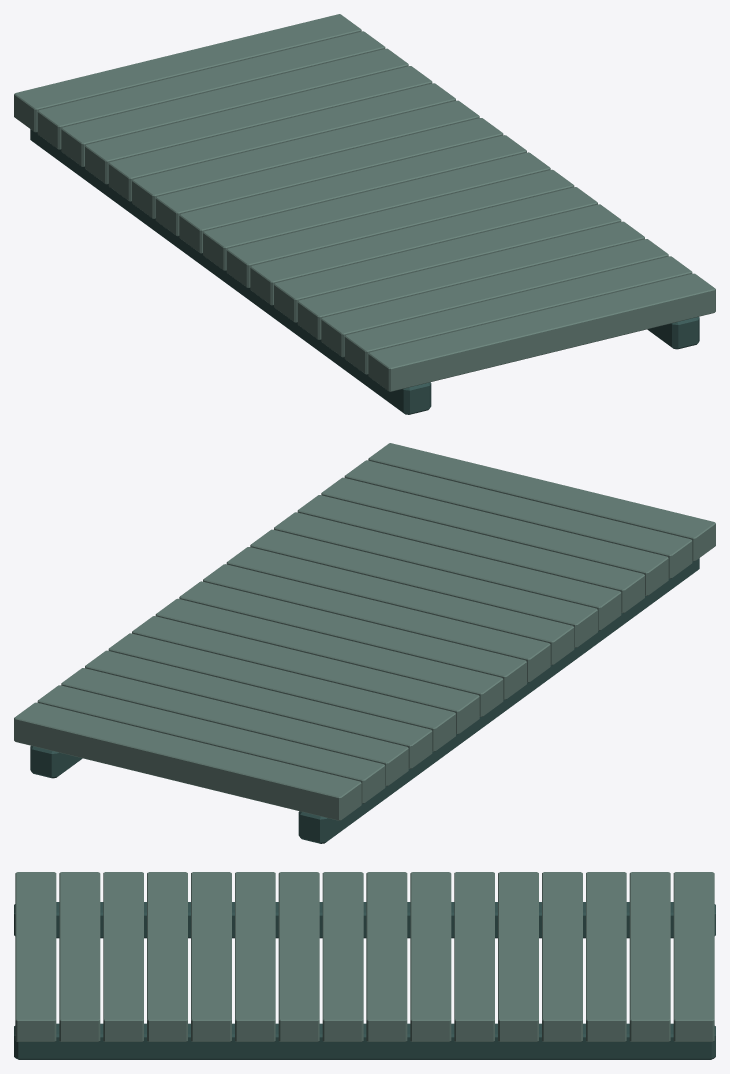
File: bridge.glb
The picture shows the model from 3 angles, top to bottom: view 1: azimuth 30°, elevation 25°; view 2: azimuth 150°, elevation 25°; view 3: azimuth 270°, elevation 25°; orthographic projection. The views are drawn at different scales.
Visible parts, largest first — view 1: bridge__body; view 2: bridge__body; view 3: bridge__body.
Part boxes in pixels (left/top/right/bottom): bridge__body: left=14, top=14, right=715, bottom=414; bridge__body: left=14, top=443, right=715, bottom=843; bridge__body: left=14, top=872, right=715, bottom=1059.
Bounding box in the file's own units: 2 × 0.3 × 4.
